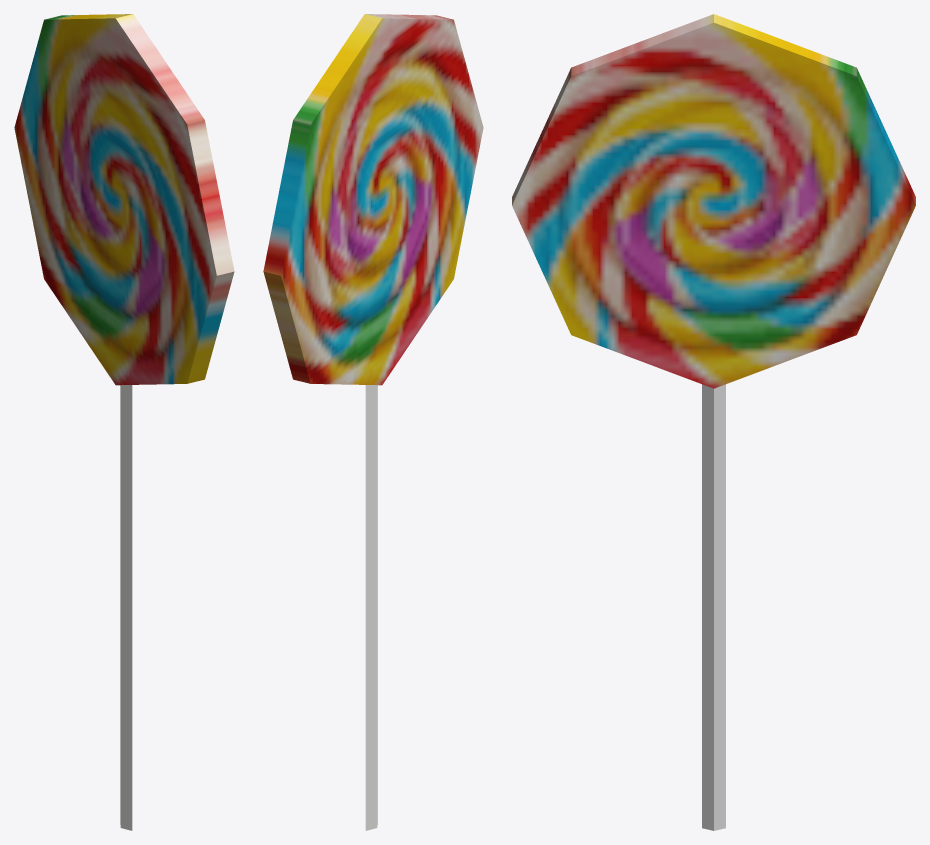
Rendered from lolipop.glb.
3 renders of one model, left to right at view 1: azimuth 30°, elevation 25°; view 2: azimuth 150°, elevation 25°; view 3: azimuth 270°, elevation 25°, orthographic.
Visible parts, largest first — view 1: Circle; view 2: Circle; view 3: Circle.
Part boxes in pixels (x1=…): Circle: x1=14, y1=14, x2=234, y2=830; Circle: x1=263, y1=14, x2=483, y2=830; Circle: x1=512, y1=14, x2=915, y2=830.
Size of the model in its own units: 0.1133 by 4.95 by 2.24.
Materials: 1 (1 with a texture image).
